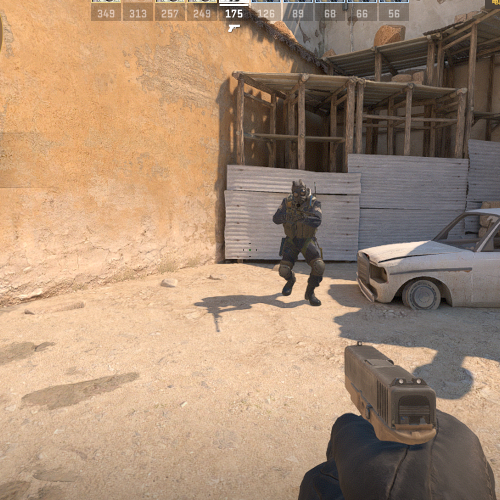ct_body: (270, 177, 325, 305)
ct_head: (290, 178, 311, 202)
